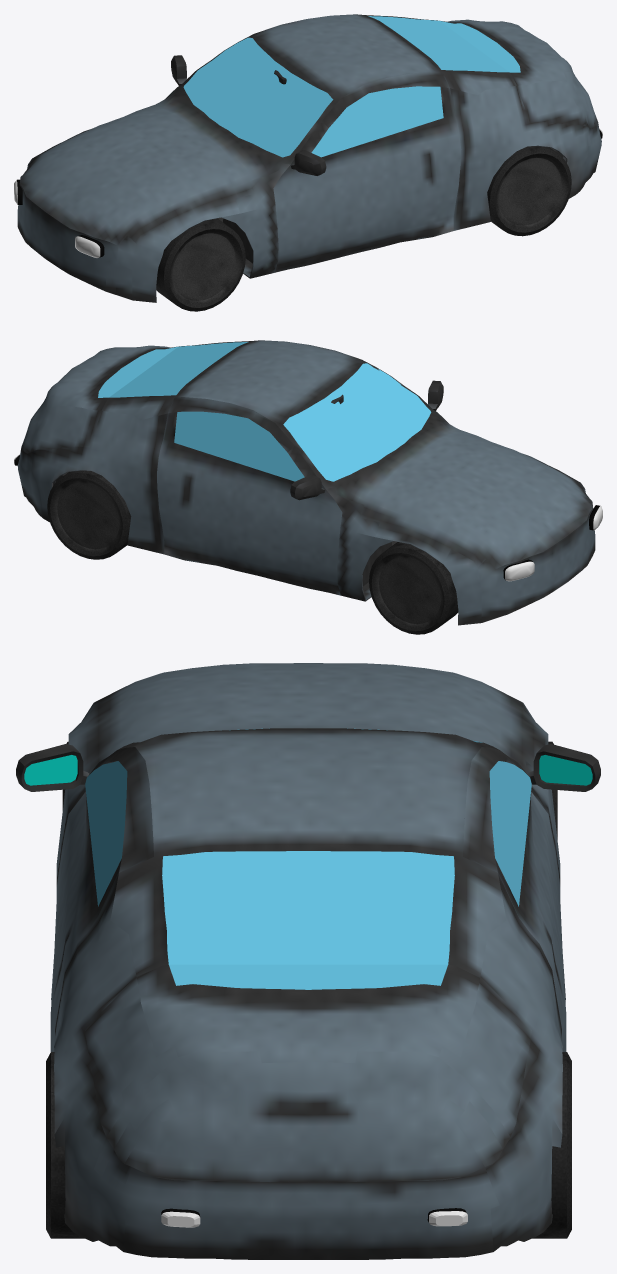
The model's file is Car.fbx.
3 views of the same model, one above another, from view 1: azimuth 30°, elevation 25°; view 2: azimuth 150°, elevation 25°; view 3: azimuth 270°, elevation 25° (orthographic). The views are drawn at different scales.
Visible parts, largest first — view 1: CarHull, CarDoorR, CarTrunk, CarWheelFL, CarWheelBL, SideMirrors, Headlights, CarInterior; view 2: CarHull, CarDoorL, CarTrunk, CarWheelFR, CarWheelBR, SideMirrors, Headlights; view 3: CarHull, CarTrunk, CarDoorL, CarDoorR, SideMirrors, CarWheelBR, CarWheelBL, BackLights.
Part boxes in pixels (box(x1,y1,x2,y2)): CarHull: box(17, 14, 601, 302); CarDoorR: box(273, 71, 461, 272); CarTrunk: box(439, 19, 598, 128); CarWheelFL: box(156, 218, 245, 311); CarWheelBL: box(487, 146, 571, 236); SideMirrors: box(171, 55, 326, 175); Headlights: box(14, 179, 104, 257); CarInterior: box(218, 147, 563, 263); CarHull: box(17, 340, 595, 625); CarDoorL: box(157, 397, 342, 595); CarTrunk: box(21, 345, 178, 453); CarWheelFR: box(369, 542, 458, 634); CarWheelBR: box(47, 470, 131, 559); SideMirrors: box(290, 380, 443, 500); Headlights: box(503, 505, 602, 581); CarHull: box(54, 663, 562, 1259); CarTrunk: box(85, 964, 531, 1181); CarDoorL: box(463, 747, 566, 1051); CarDoorR: box(50, 747, 153, 1051); SideMirrors: box(16, 744, 600, 791); CarWheelBR: box(532, 1052, 571, 1238); CarWheelBL: box(46, 1052, 84, 1238); BackLights: box(161, 1208, 467, 1227).
Bounding box in the file's own units: 532 × 168 × 260.
